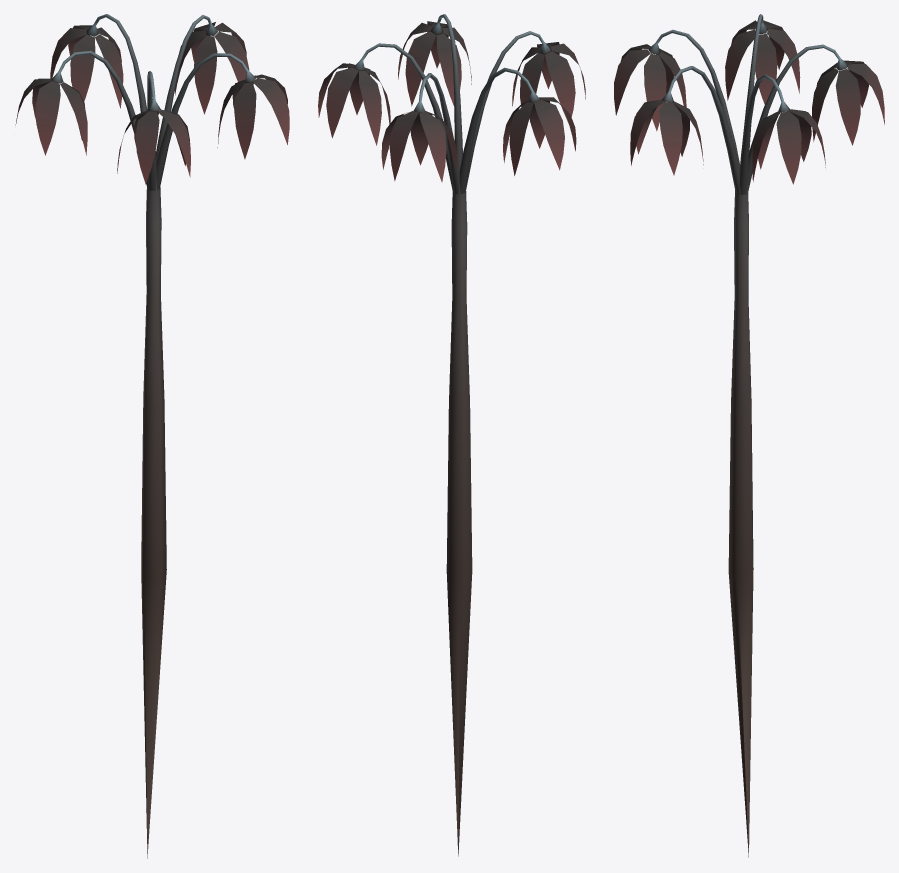
The model's file is plants-flowers-red-bell-flower_v1.fbx.
3 views of the same model, side by side, from view 1: azimuth 30°, elevation 25°; view 2: azimuth 150°, elevation 25°; view 3: azimuth 270°, elevation 25° (orthographic).
Visible parts, largest first — view 1: Red Bell Flower_v1; view 2: Red Bell Flower_v1; view 3: Red Bell Flower_v1.
Boxes of the visible parts, <box> form: Red Bell Flower_v1: <box>15,14,289,858</box>; Red Bell Flower_v1: <box>318,14,585,856</box>; Red Bell Flower_v1: <box>614,14,884,857</box>.
Size of the model in its own units: 0.213 by 0.7 by 0.2114.
